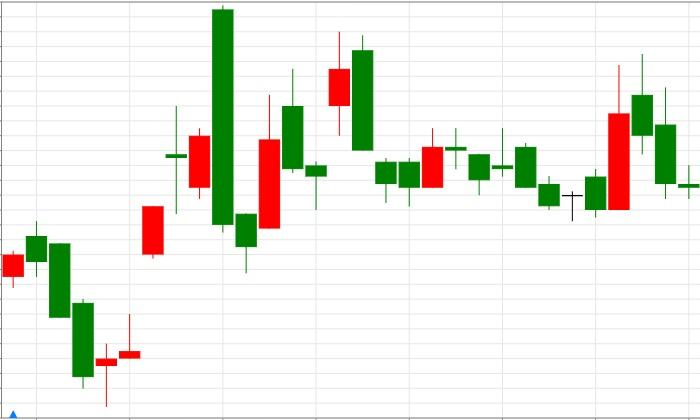bearish_engulfing_fall: (96, 5, 234, 406)
